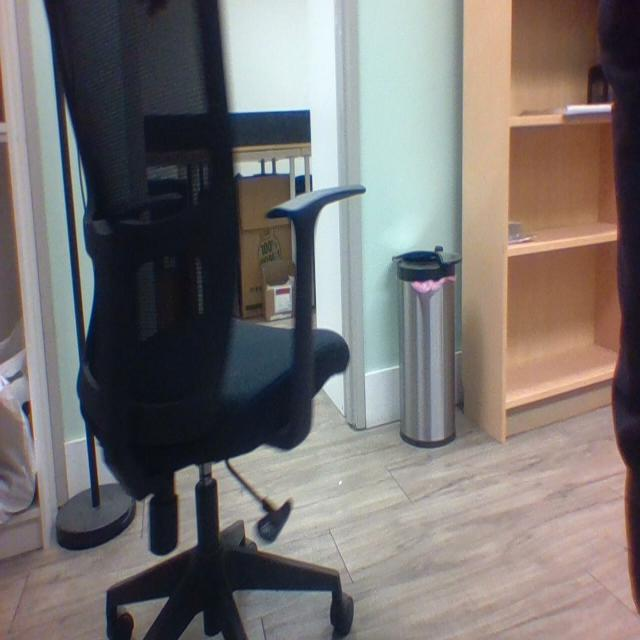black-chair: (41, 0, 362, 639)
